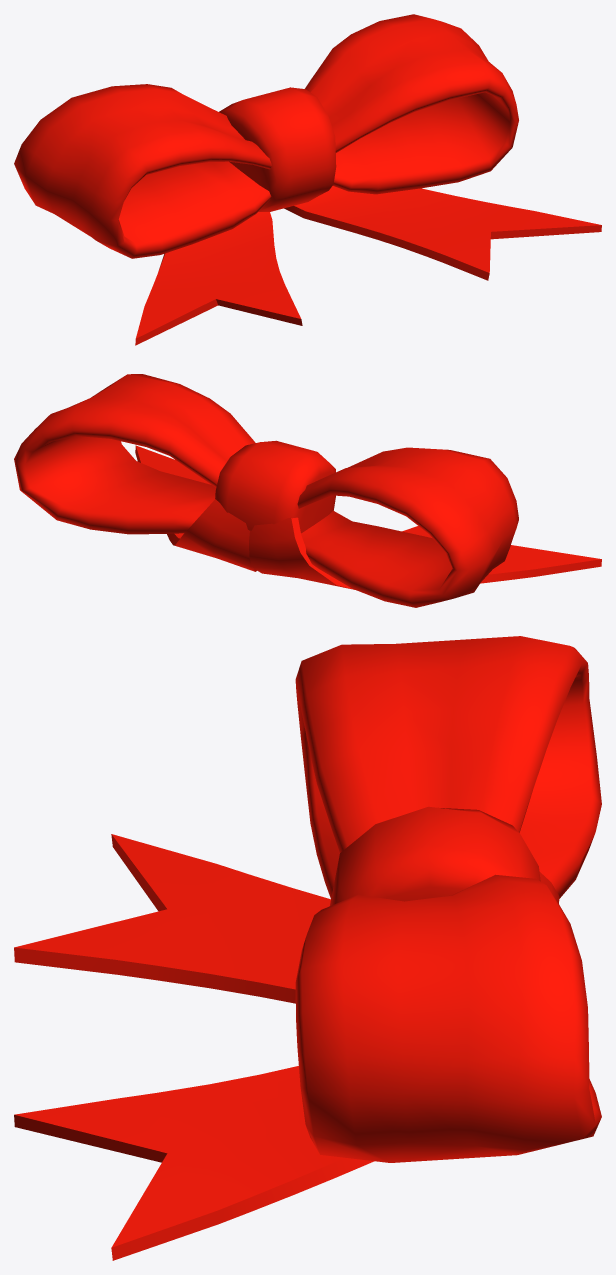
File: Cake_ThemeBows_D.FBX
3 renders of one model, top to bottom at view 1: azimuth 30°, elevation 25°; view 2: azimuth 150°, elevation 25°; view 3: azimuth 270°, elevation 25°, orthographic. The views are drawn at different scales.
Visible parts, largest first — view 1: Cake_ThemeBows_D; view 2: Cake_ThemeBows_D; view 3: Cake_ThemeBows_D.
Part boxes in pixels (x1,y1,x2,y2): Cake_ThemeBows_D: (14, 14, 601, 345); Cake_ThemeBows_D: (14, 374, 601, 607); Cake_ThemeBows_D: (14, 636, 601, 1260).
Bounding box in the file's own units: 114289 × 35000 × 68610.
